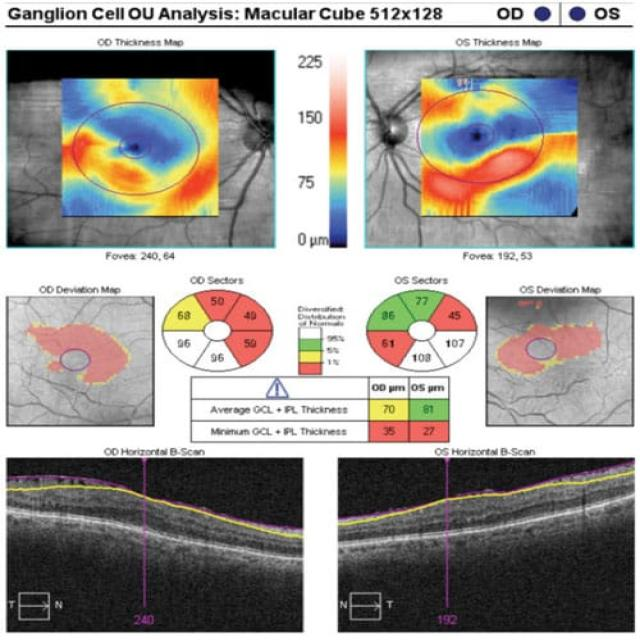average gcl and ipl thickness: (200, 401, 439, 419)
average gcl and ipl thickness-od: (375, 401, 403, 419)
average gcl and ipl thickness-os: (414, 405, 438, 418)
minimum gcl and ipl thickness: (200, 424, 448, 440)
minimum gcl and ipl thickness-od: (378, 426, 402, 438)
minimum gcl and ipl thickness-os: (417, 424, 442, 439)
